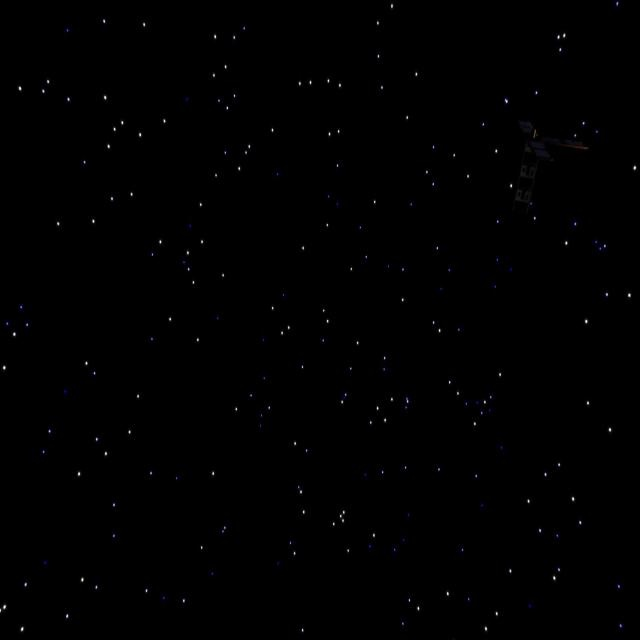medium_debris: (468, 109, 596, 213)
